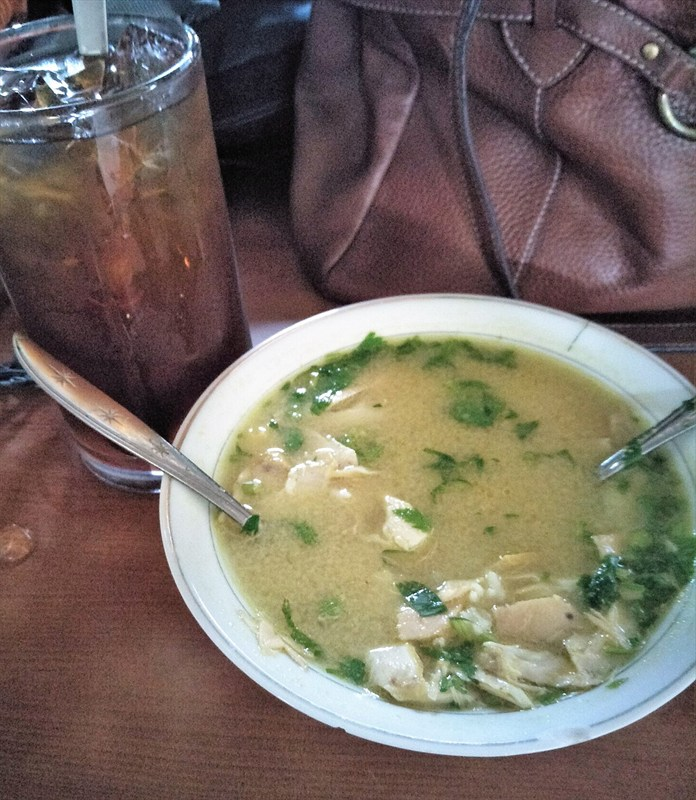Soto Ayam: (41, 59, 642, 755)
